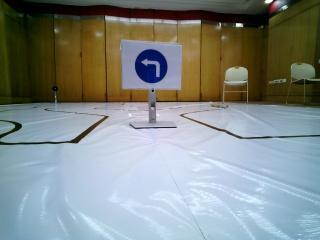left: (129, 43, 178, 87)
